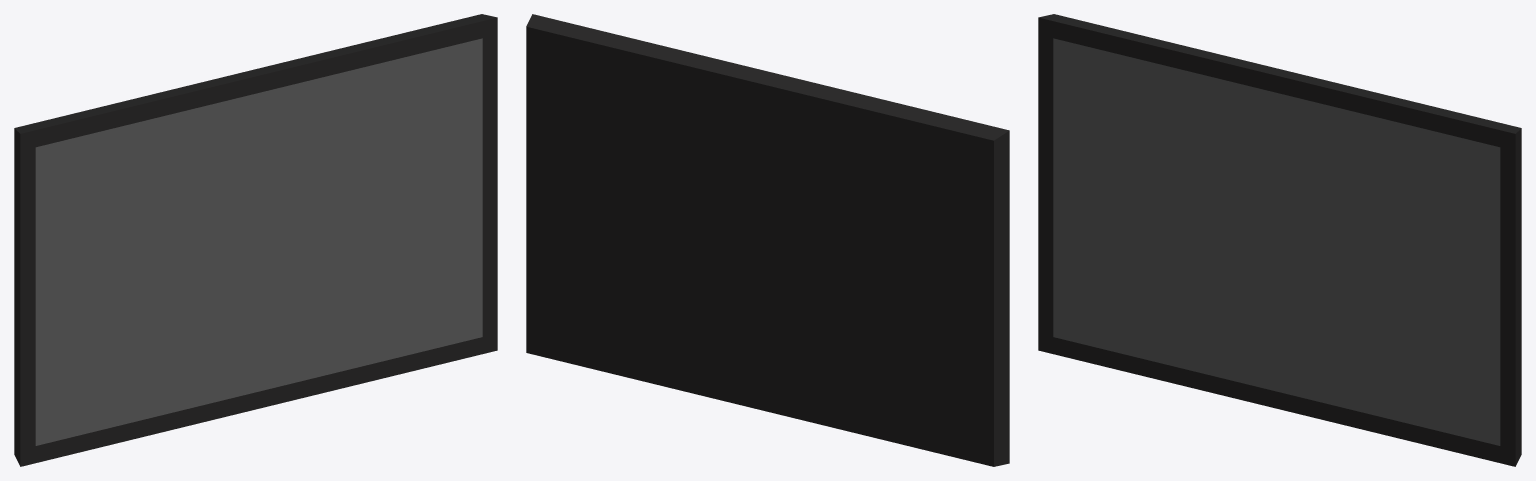
The picture shows the model from 3 angles, left to right: view 1: azimuth 30°, elevation 25°; view 2: azimuth 150°, elevation 25°; view 3: azimuth 330°, elevation 25°; orthographic projection.
Parts seen in each view (by area): view 1: TV; view 2: TV; view 3: TV.
Boxes of the visible parts, x1=… form: TV: x1=14, y1=14, x2=497, y2=466; TV: x1=526, y1=14, x2=1009, y2=466; TV: x1=1038, y1=14, x2=1521, y2=466.
Bounding box in the file's own units: 1.5 × 1 × 0.06.
